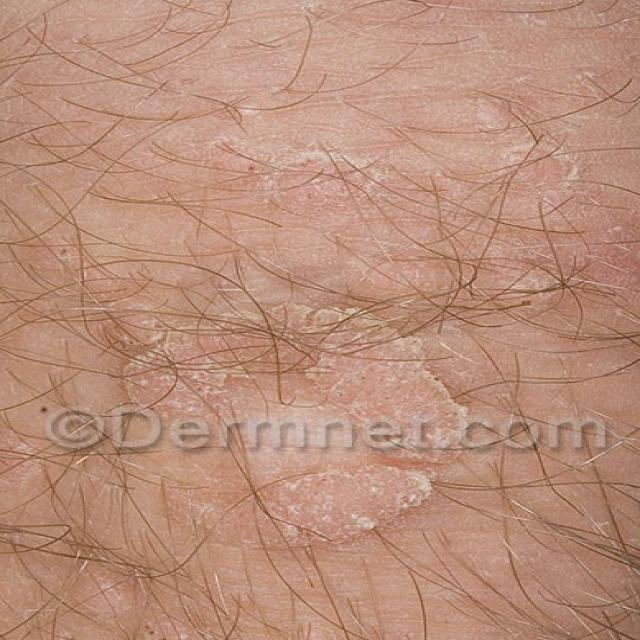Warts: (97, 27, 620, 640)
